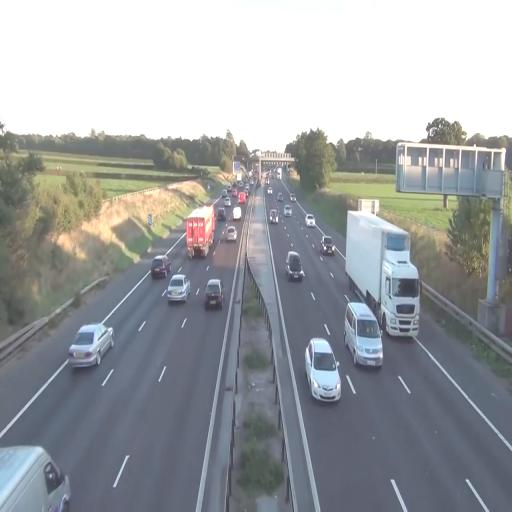vehicle: (345, 212, 421, 338), (0, 443, 72, 511), (344, 301, 384, 370), (304, 338, 341, 403), (68, 323, 114, 367), (185, 204, 216, 260), (165, 272, 190, 304), (285, 249, 304, 281), (204, 279, 224, 309), (150, 254, 170, 279), (222, 224, 238, 243), (321, 235, 334, 256), (268, 206, 278, 224)
